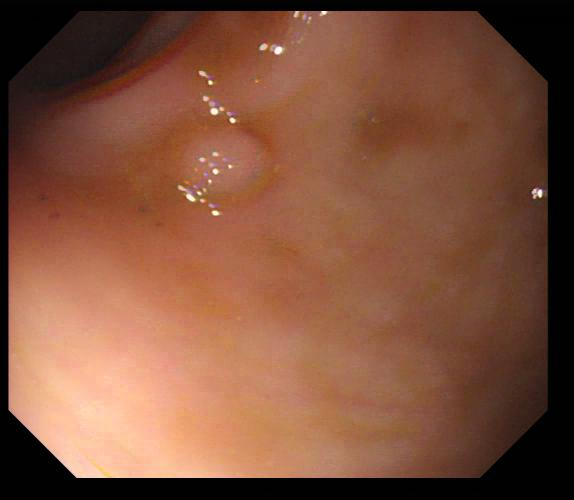polyp: (159, 119, 275, 203)
